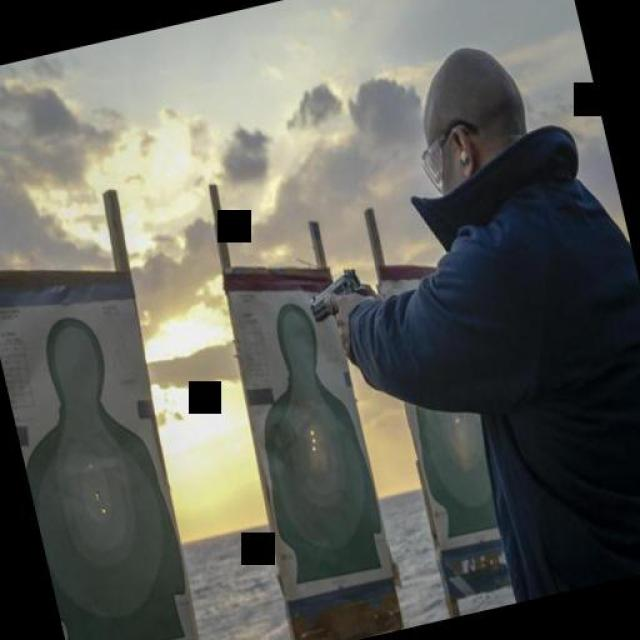gun: (298, 258, 372, 332)
